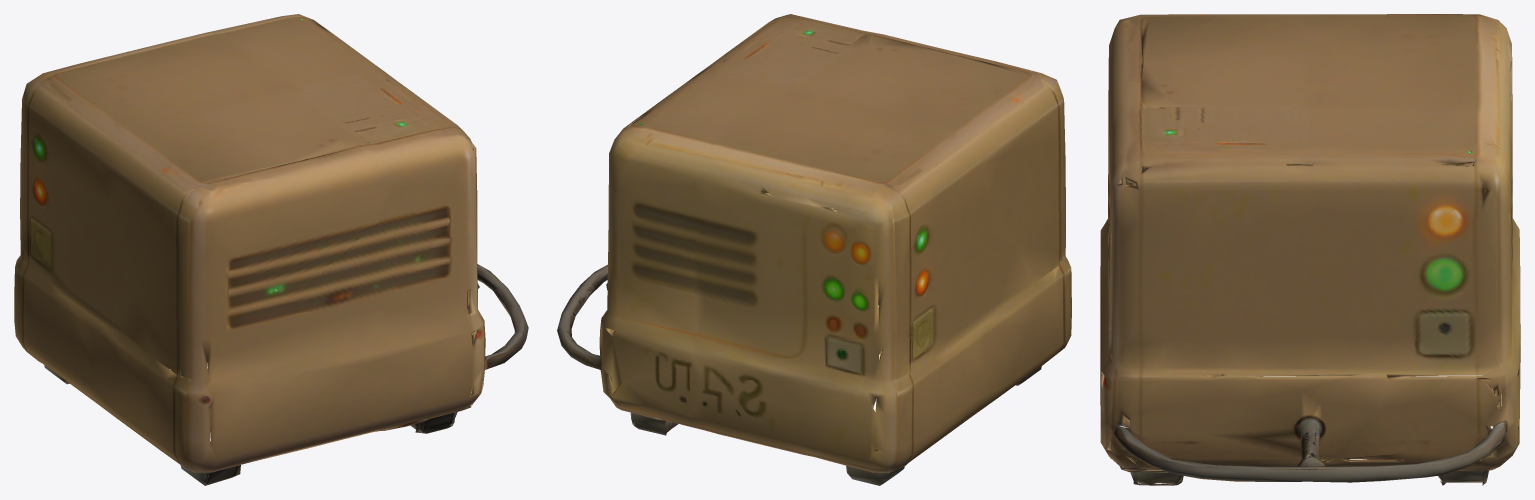
The model's file is Rustic_Power_Block_0404141215_texture.glb.
The picture shows the model from 3 angles, left to right: view 1: azimuth 30°, elevation 25°; view 2: azimuth 150°, elevation 25°; view 3: azimuth 270°, elevation 25°; orthographic projection. The views are drawn at different scales.
Bounding box in the file's own units: 1.98 × 1.45 × 1.64.
1 material, 1 textured.
